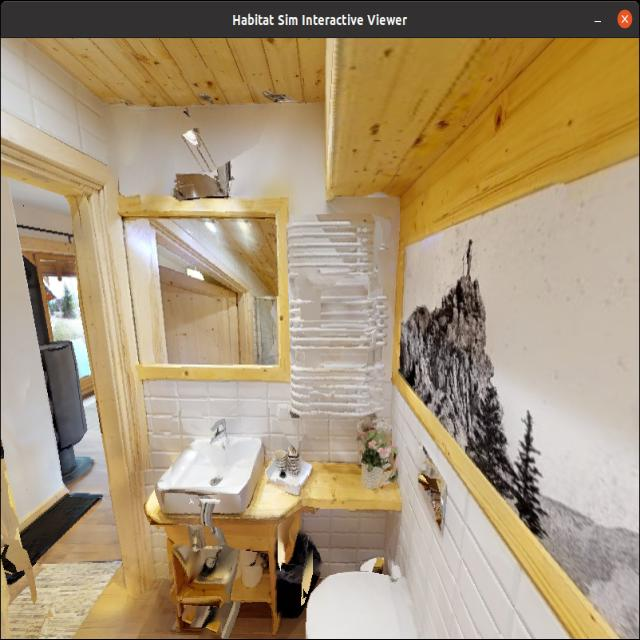door-frame: (0, 125, 148, 634)
sink: (152, 406, 279, 538)
